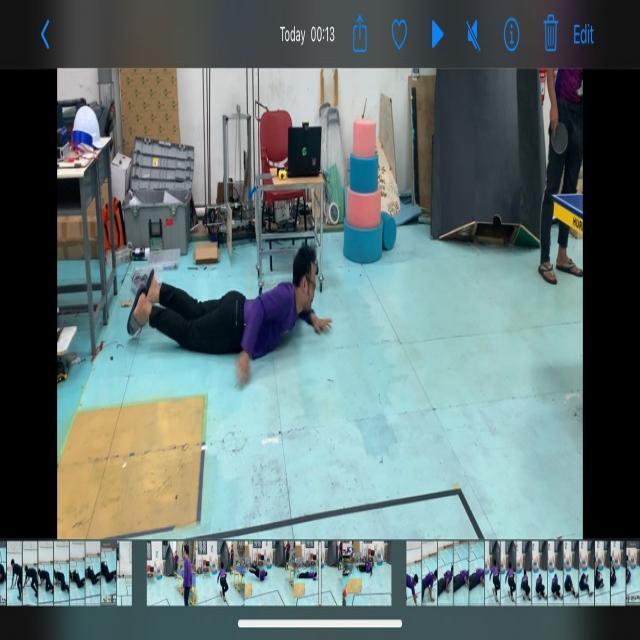fall: (119, 234, 342, 403)
